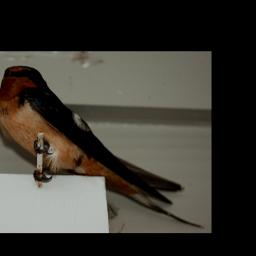Swallow: (0, 65, 207, 225)
